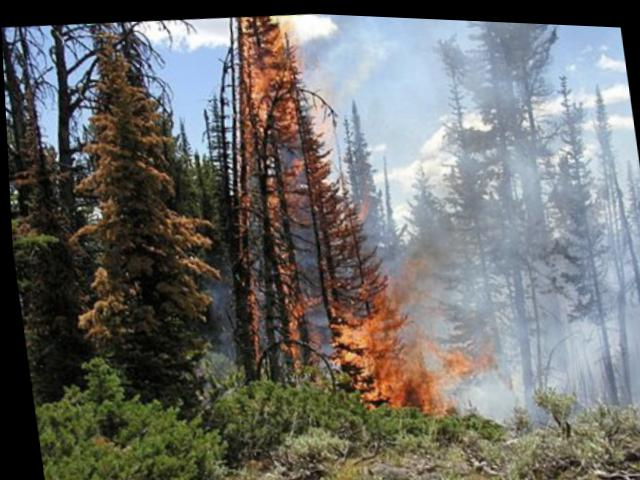fire: (182, 6, 456, 427)
